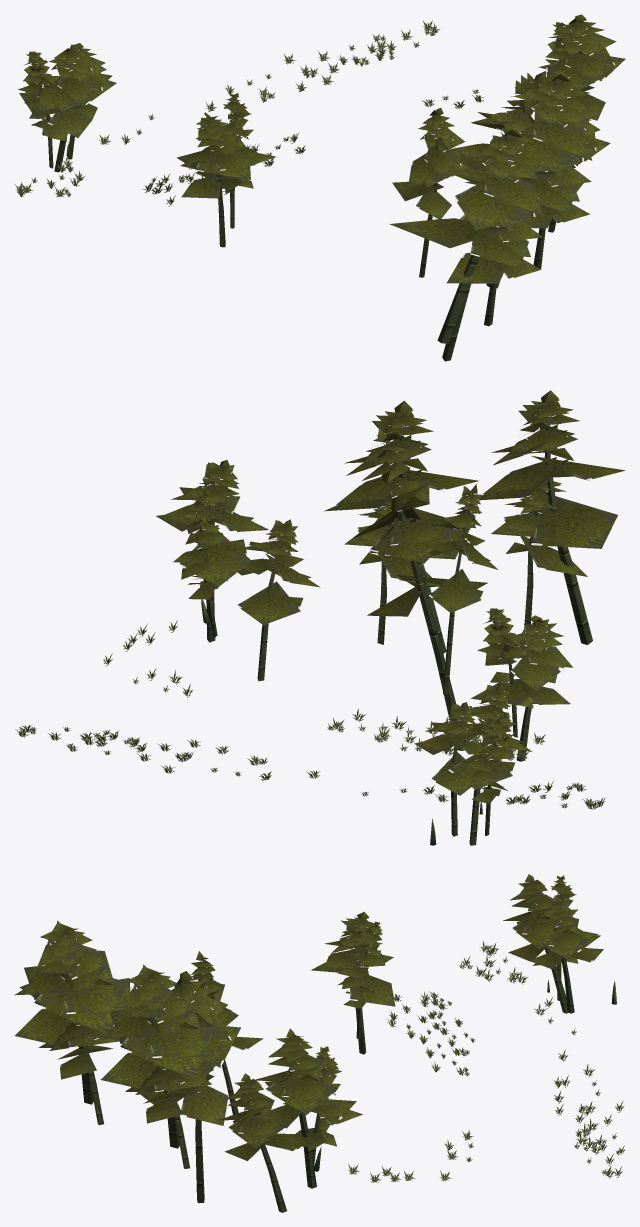
The model's file is tree04.fbx.
The picture shows the model from 3 angles, top to bottom: view 1: azimuth 30°, elevation 25°; view 2: azimuth 150°, elevation 25°; view 3: azimuth 270°, elevation 25°; orthographic projection. The views are drawn at different scales.
Parts seen in each view (by area): view 1: tree04; view 2: tree04; view 3: tree04.
Part boxes in pixels (x1,y1,x2,y2): tree04: [15, 14, 625, 361]; tree04: [15, 390, 625, 845]; tree04: [14, 874, 625, 1212].
Bounding box in the file's own units: 4762 × 2530 × 5058.
